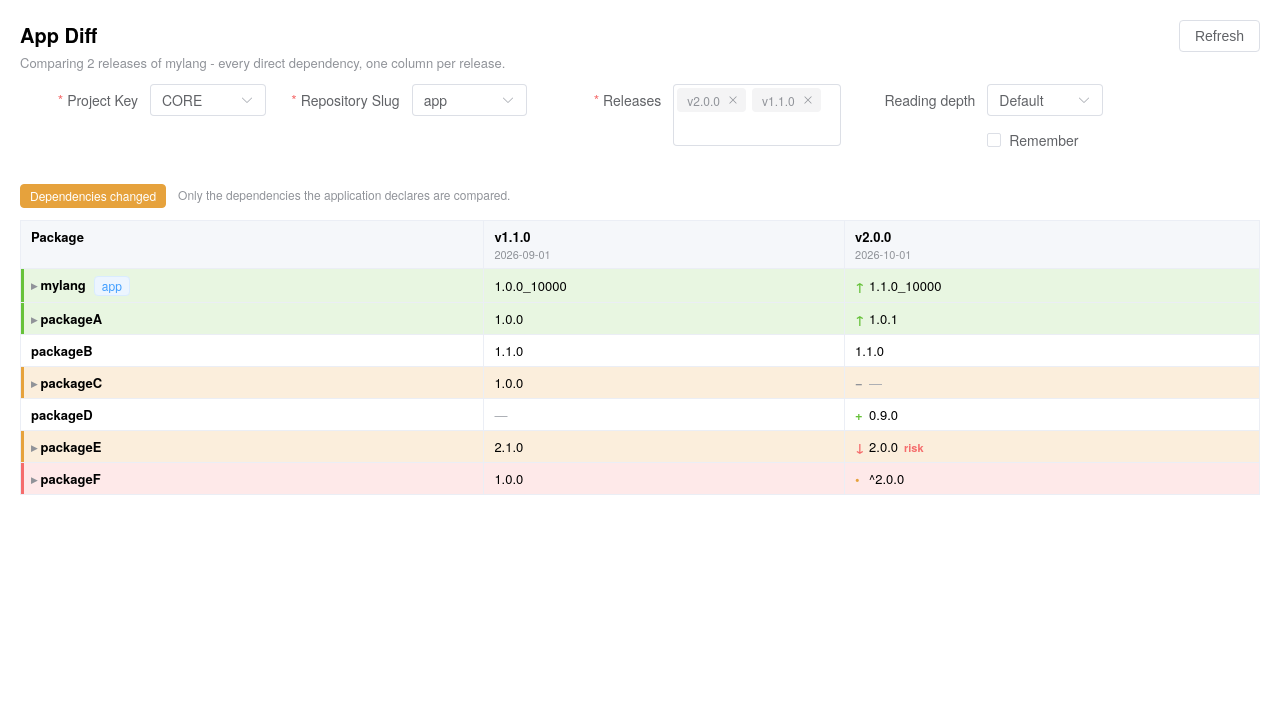
it: AppDiffView › draws the version a package no longer has as a dash in its title
Click the row with test id "matrix-row-packageC".
click(640, 383)  # box [20,367,1260,399]
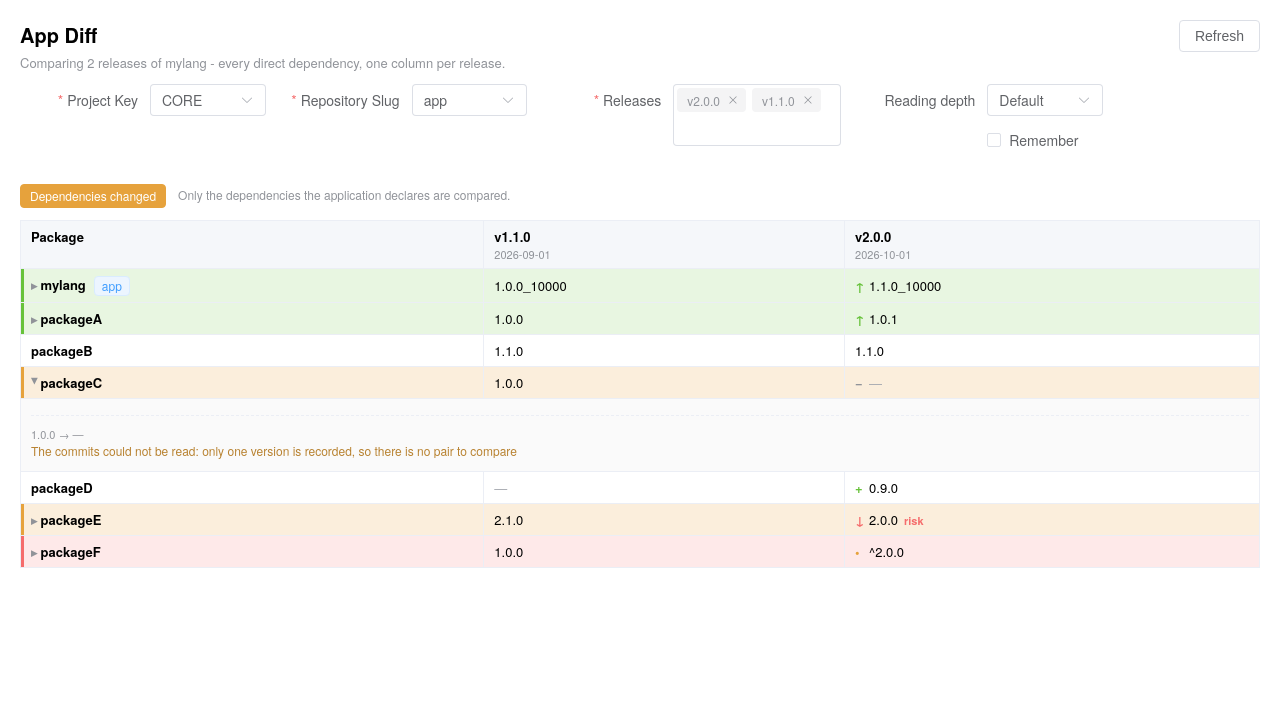
Expected: the text with test id "matrix-packageC-pair-0" reads "1.0.0 → —", [31,426,84,442]
